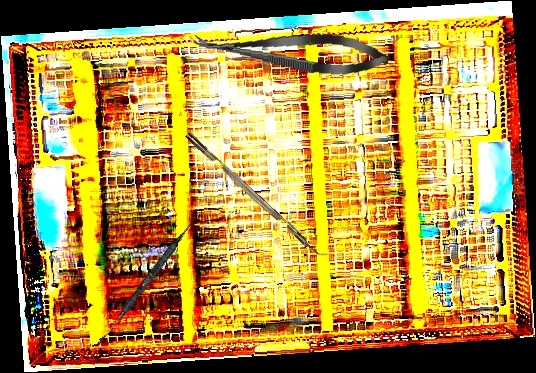Chopper: (184, 125, 334, 265)
Micro Scissor: (192, 22, 391, 80)
Spatula Surgical: (98, 215, 197, 346)
